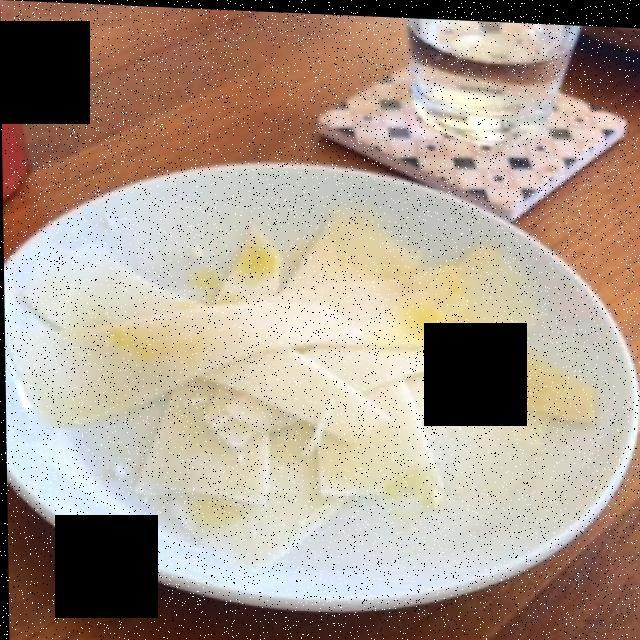cheese: (54, 199, 597, 531)
